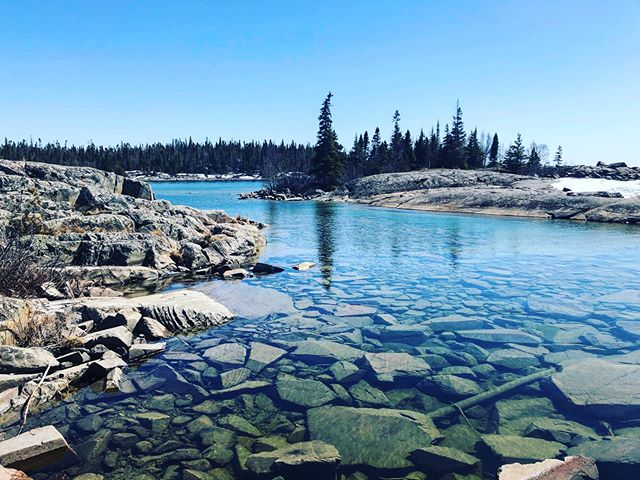river: (193, 184, 640, 480)
rocks: (1, 157, 233, 433)
sky: (9, 1, 640, 136)
vegetation: (1, 124, 516, 172)
